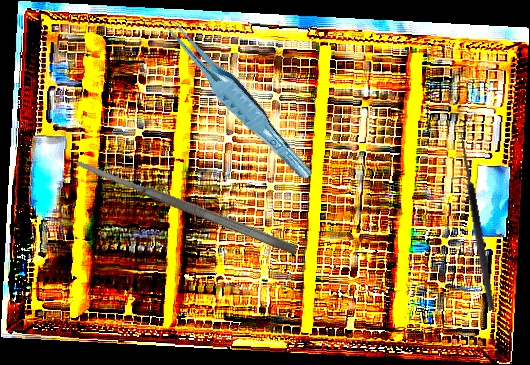Hook Surgical: (448, 132, 496, 313)
Spatula Surgical: (75, 156, 298, 257)
Tissue Forceps: (156, 1, 315, 192)
